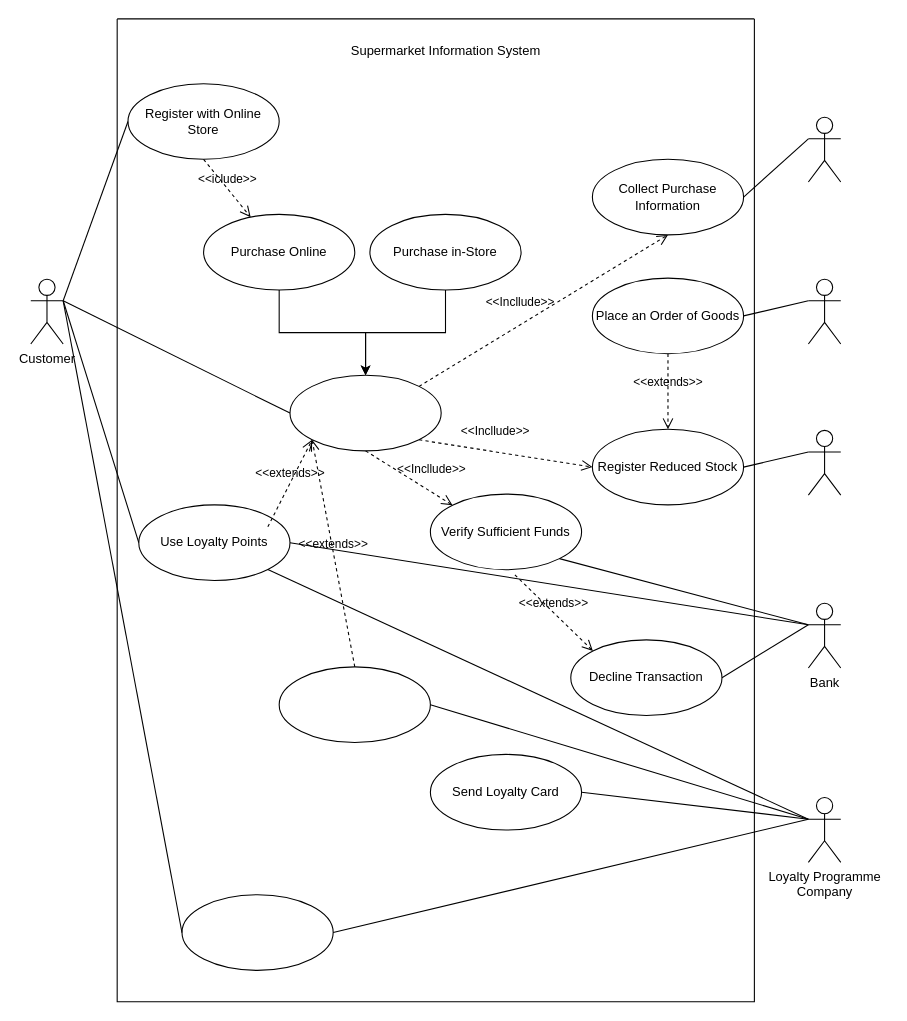
This 907x1021 diagram has some shape labels left out. The centre of each missing label's shape, as x and y in pixels:
"Award points" goes at point (354, 704).
"Marketing Department" goes at point (824, 149).
"Purchase Goods" goes at point (365, 412).
"Register with Loyalty Programme Company" goes at point (257, 932).
"Supermarket" goes at point (824, 462).
"Supplier" goes at point (824, 311).
